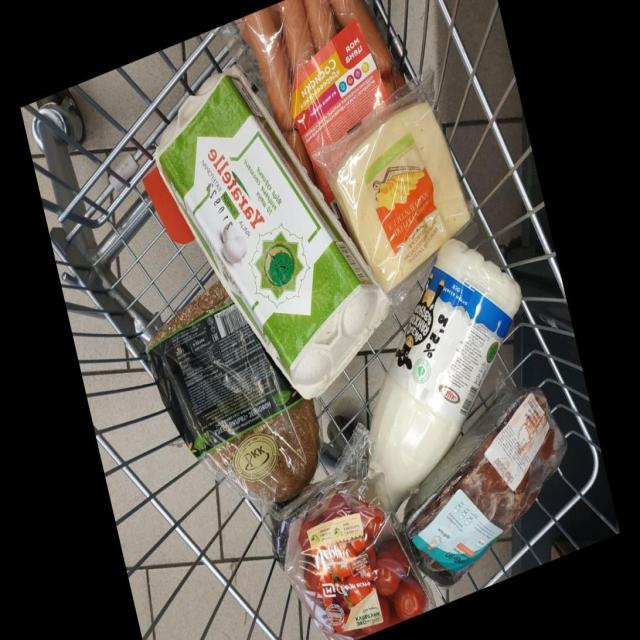Bread: (148, 284, 320, 503)
Cheese: (318, 82, 470, 292)
Eggs: (156, 68, 390, 398)
Meat: (403, 386, 566, 586)
Milk: (370, 239, 521, 509)
Sausages: (211, 0, 402, 201)
Tomatoes: (375, 539, 409, 596), (392, 578, 426, 621), (362, 595, 390, 635), (304, 564, 319, 593)
